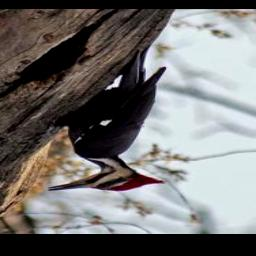Woodpecker: (42, 48, 169, 192)
